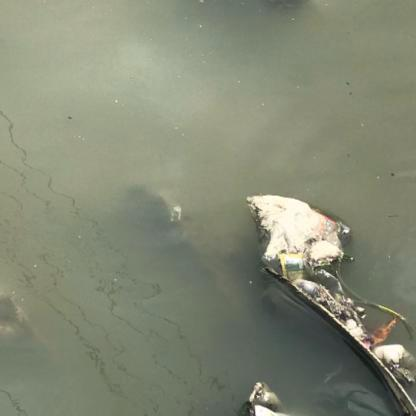Trash: (278, 249, 310, 283)
